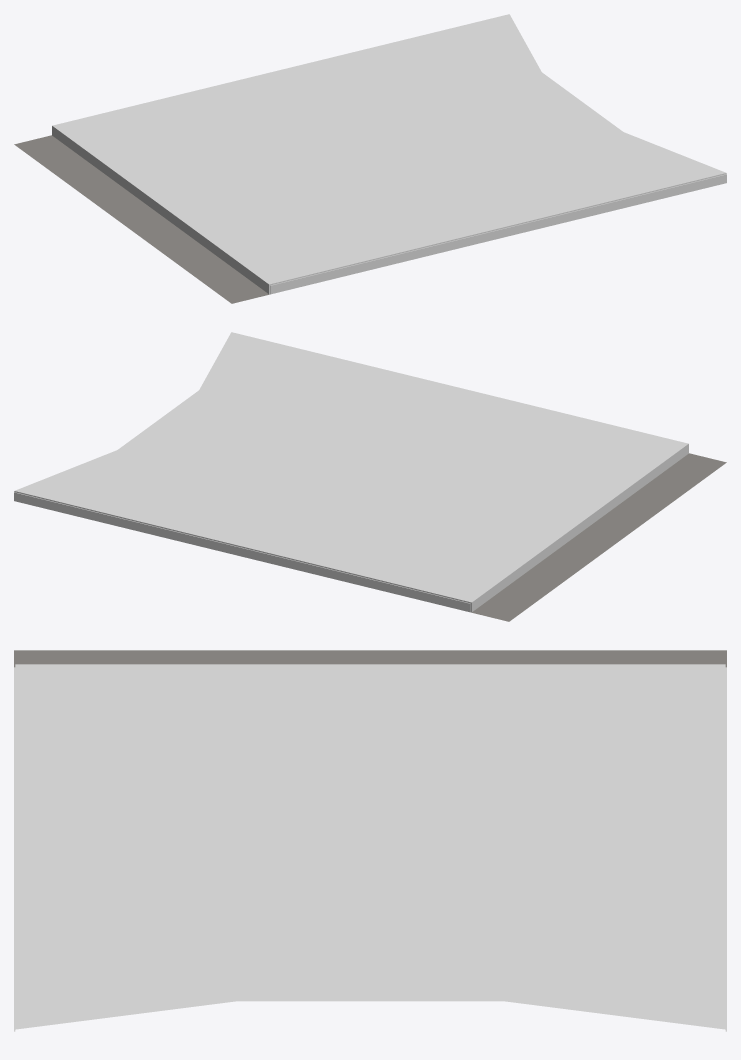
The model's file is MMo_C_001_a_18x16.fbx.
3 views of the same model, one above another, from view 1: azimuth 30°, elevation 25°; view 2: azimuth 150°, elevation 25°; view 3: azimuth 270°, elevation 25° (orthographic). The views are drawn at different scales.
Parts seen in each view (by area): view 1: MMo_C_001_a_18x16; view 2: MMo_C_001_a_18x16; view 3: MMo_C_001_a_18x16.
Boxes of the visible parts, bbox=[...] form: MMo_C_001_a_18x16: bbox=[14, 14, 726, 303]; MMo_C_001_a_18x16: bbox=[14, 332, 726, 621]; MMo_C_001_a_18x16: bbox=[14, 650, 726, 1031].
Size of the model in its own units: 21 by 0.4 by 16.
